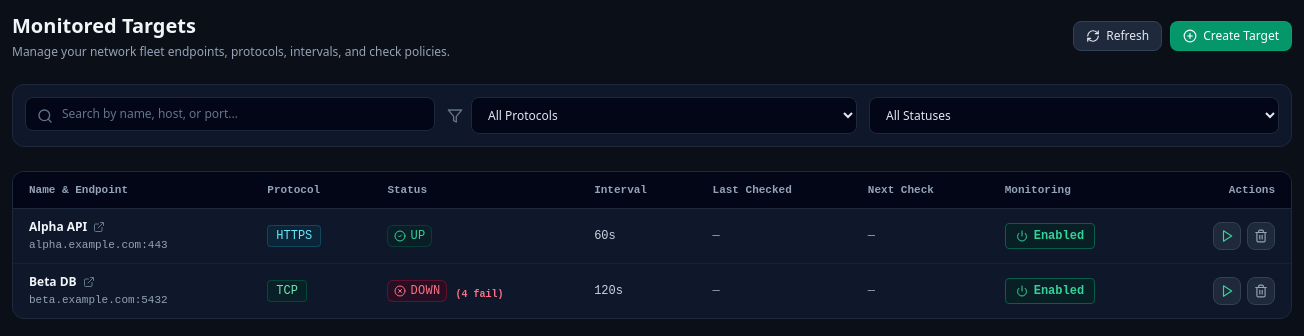
Scenario: TargetsListPage › renders target cards and filters by search text
Expected: the heading "Monitored Targets" is shown, [12,12,196,39]
Expected: the text "Alpha API" is shown, [29,219,87,235]
Type "Alpha" into the field with placeholder "Search by name, host, or port..." at (230, 114), box [25,97,435,131]
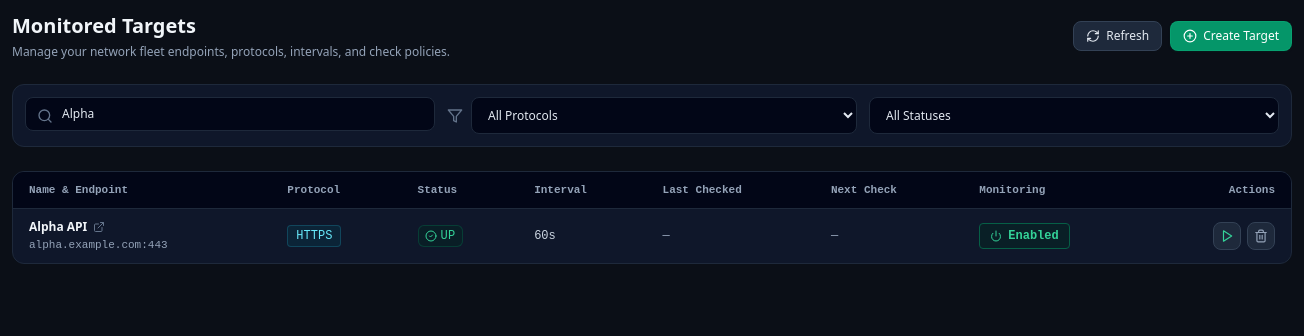
Expected: the text "Alpha API" is shown, [29,219,87,235]
Now the link "Beta DB" is gone
